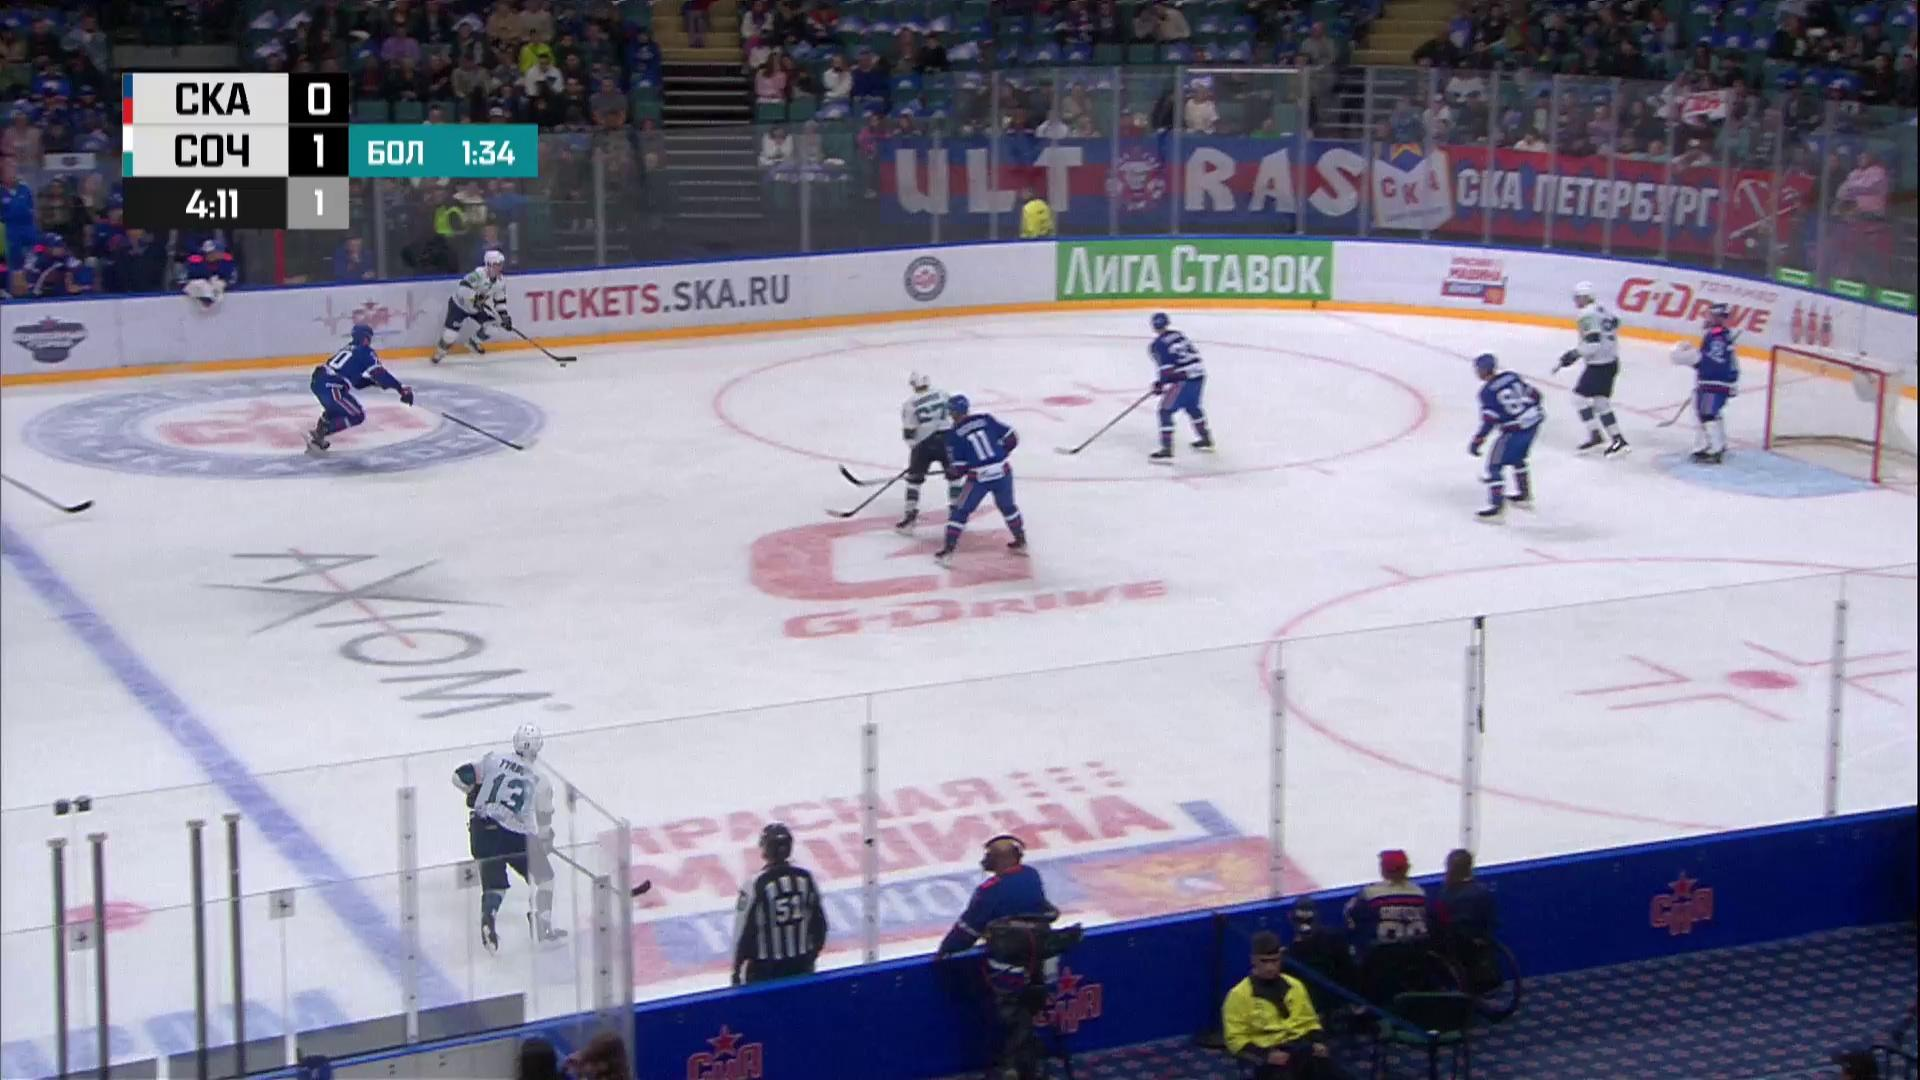ball: (559, 363, 567, 368)
